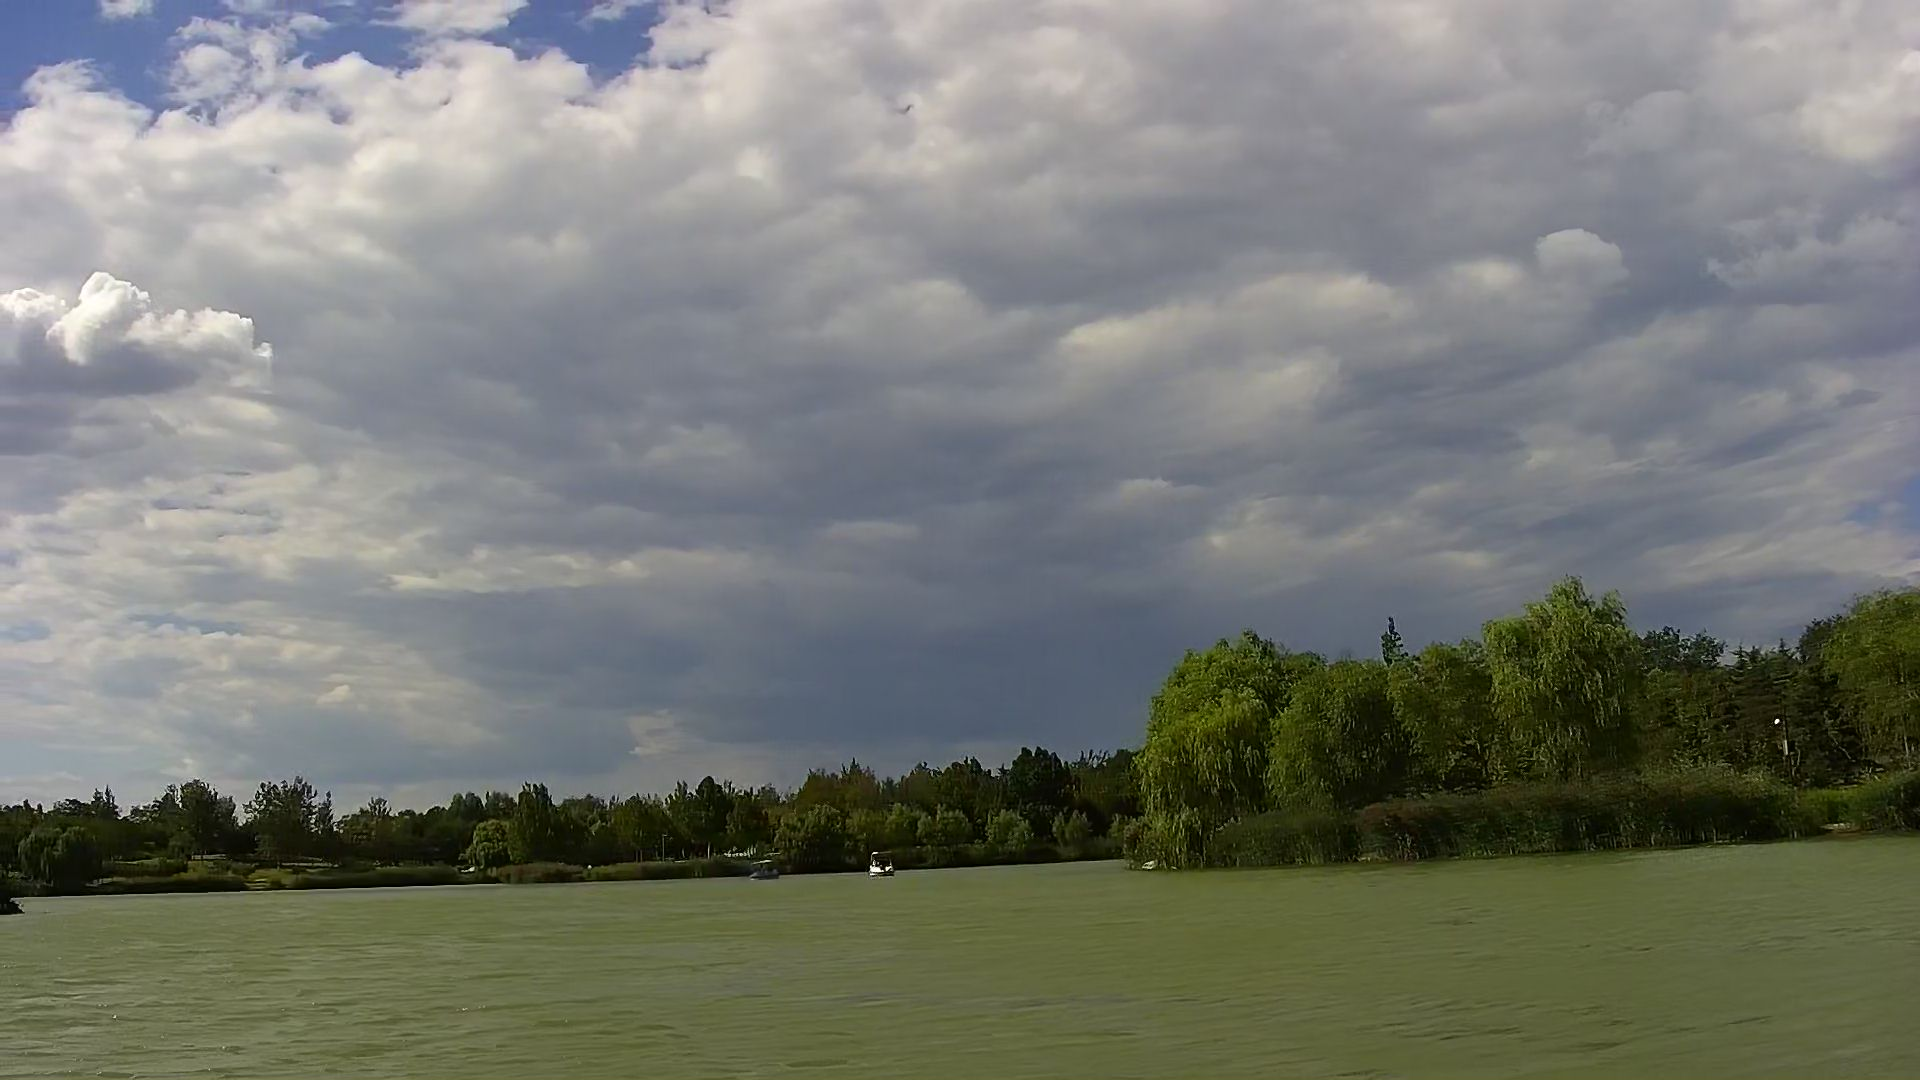boat: (746, 858, 787, 882), (866, 848, 893, 878)
